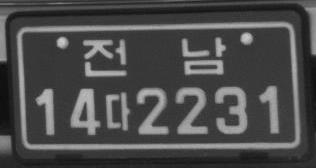1: (256, 84, 286, 134), (33, 86, 61, 136)
2: (174, 84, 209, 135), (136, 86, 171, 135)
3: (214, 84, 249, 136)
4: (69, 86, 101, 136)
다: (104, 91, 132, 132)
전남_D: (81, 36, 226, 77)
